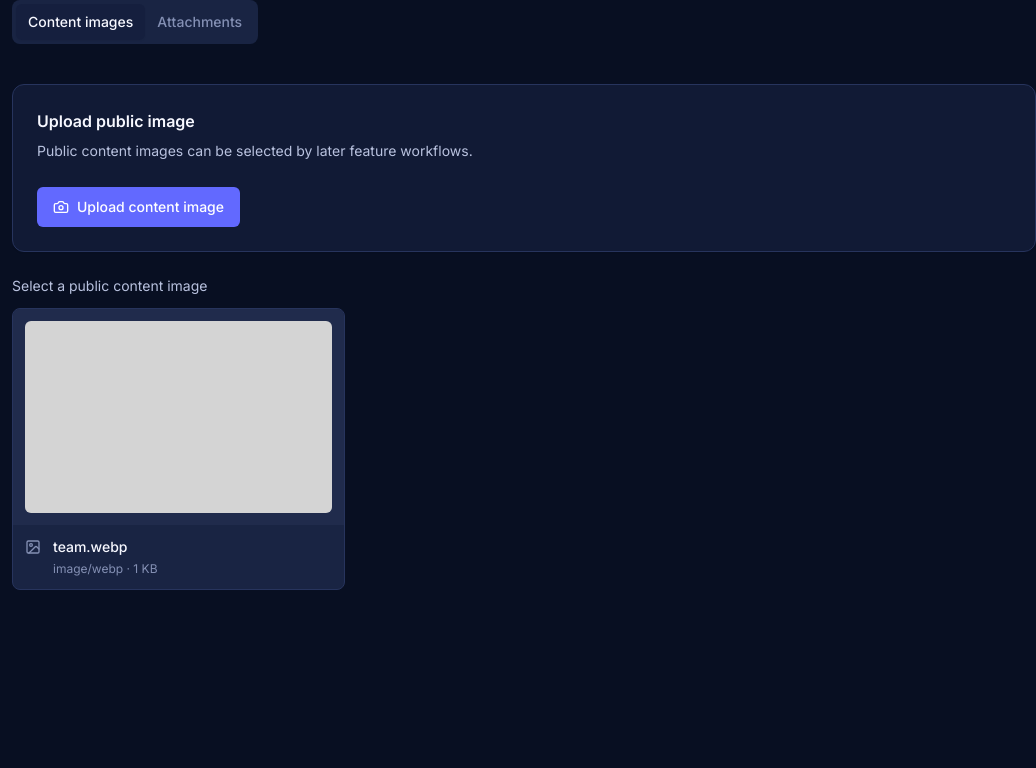
Scenario: MediaLibrary › renders upload and management controls only for media managers
Expected: the button "Upload content image" is shown, left=37, top=187, right=240, bottom=227
Click the tab "Attachments". click: (200, 22)
box: left=145, top=4, right=254, bottom=40
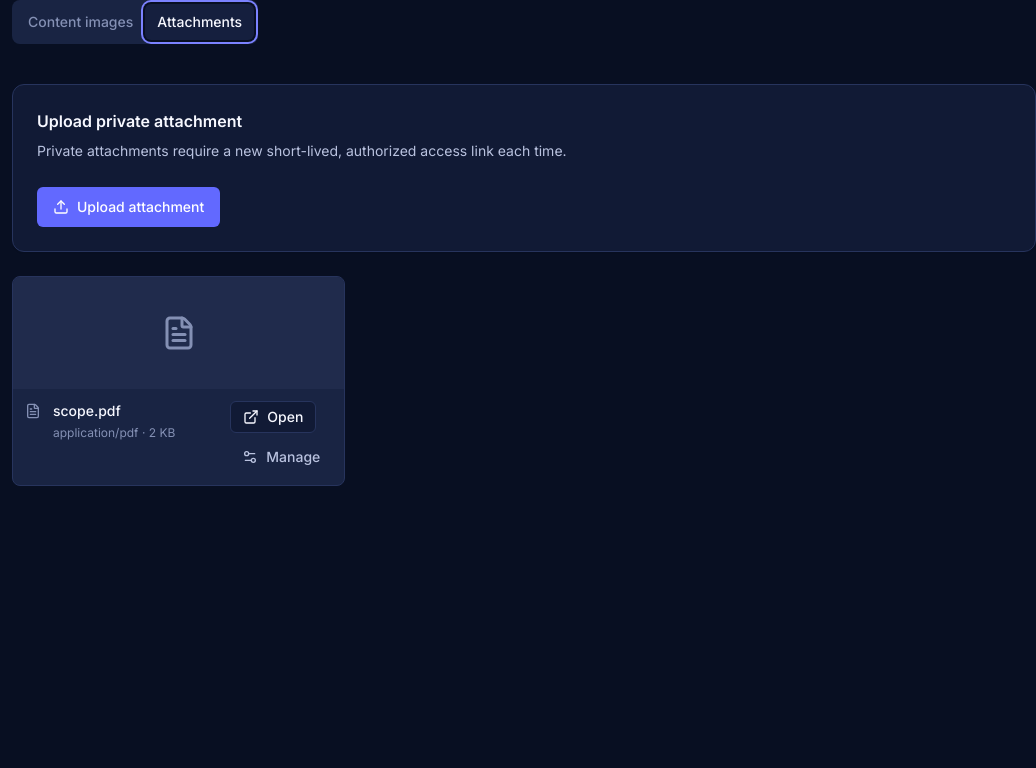
Result: the button "Manage" is shown at left=230, top=441, right=332, bottom=473
